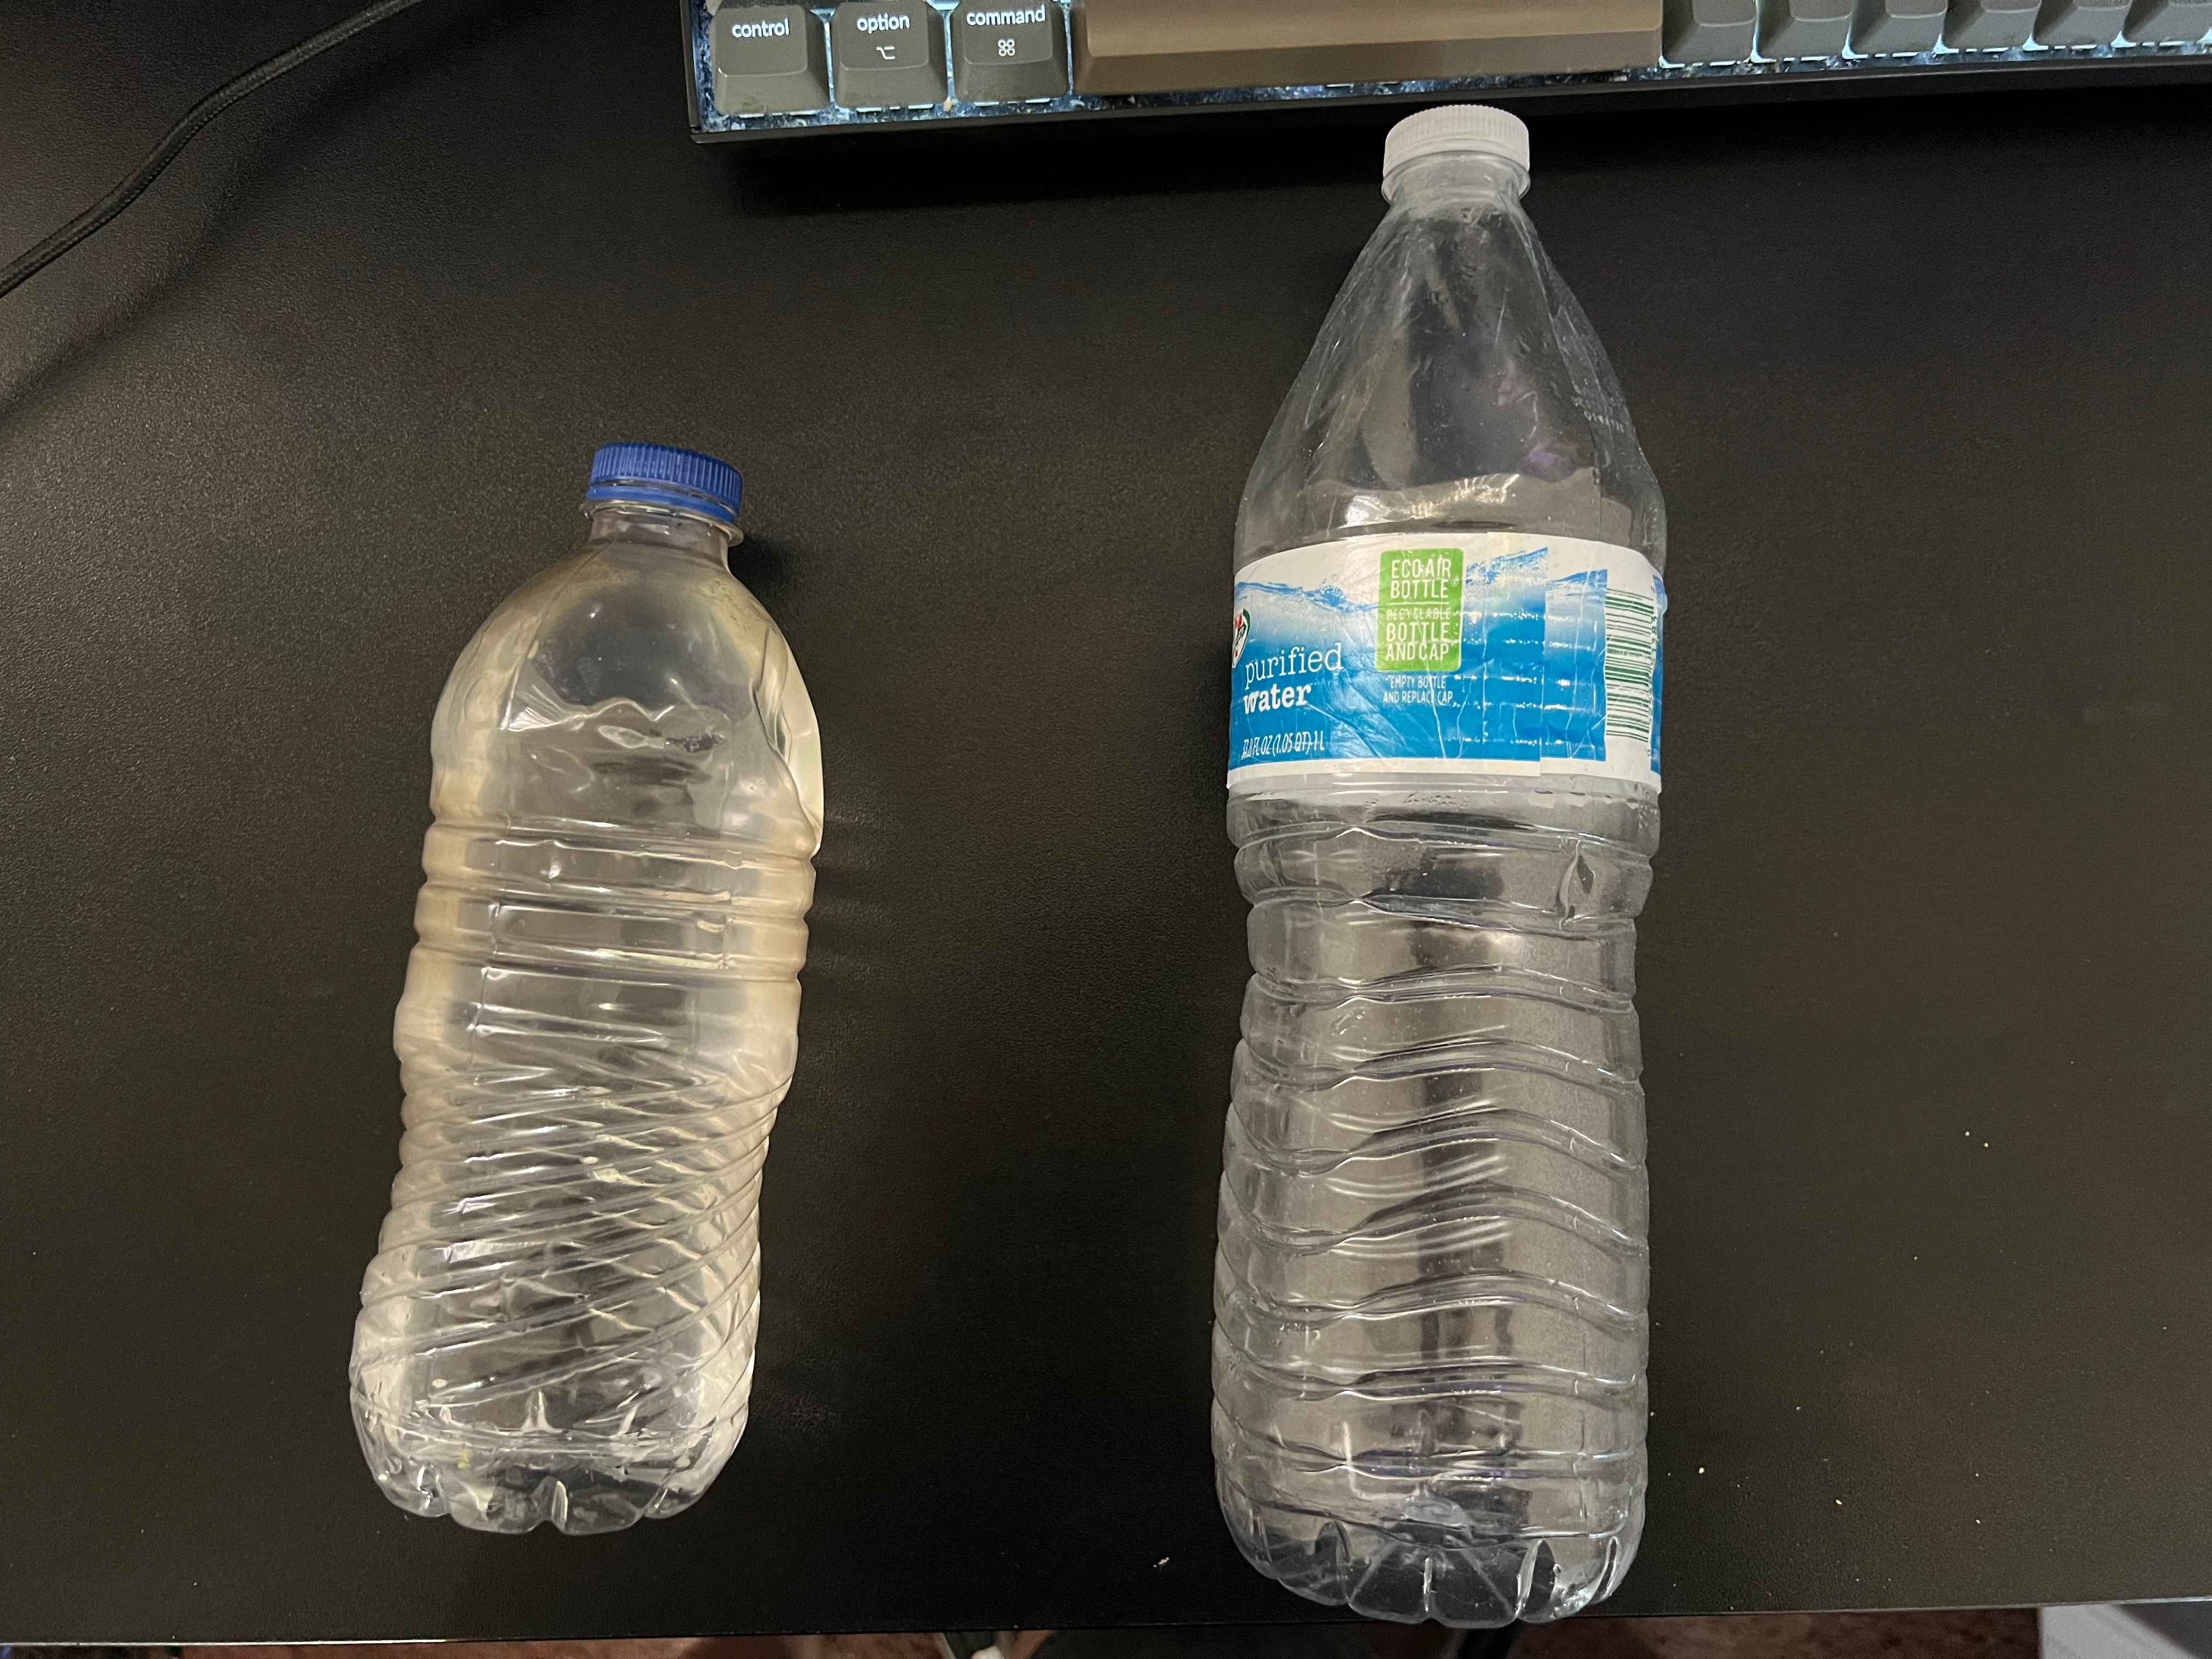trash bottle: (1193, 113, 1679, 1635), (347, 408, 831, 1549)
